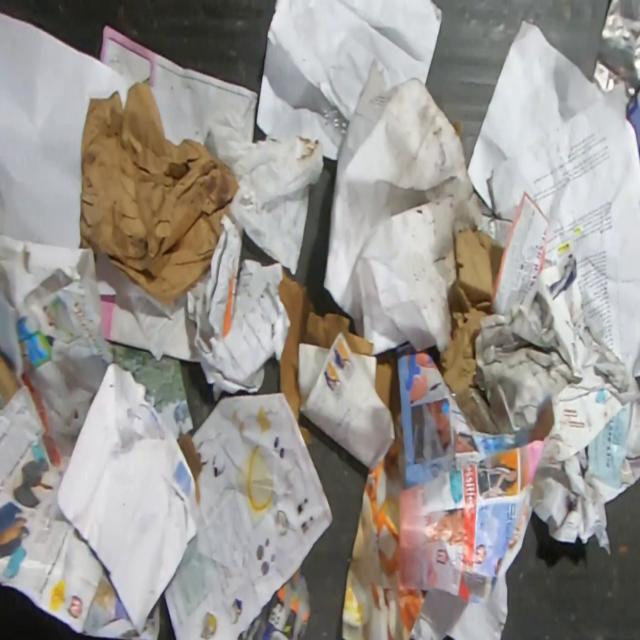cardboard: (277, 267, 375, 424), (437, 223, 504, 398), (375, 349, 401, 428), (530, 399, 554, 442), (300, 426, 312, 446)
soft_plastic: (590, 0, 640, 114), (317, 89, 348, 152)
